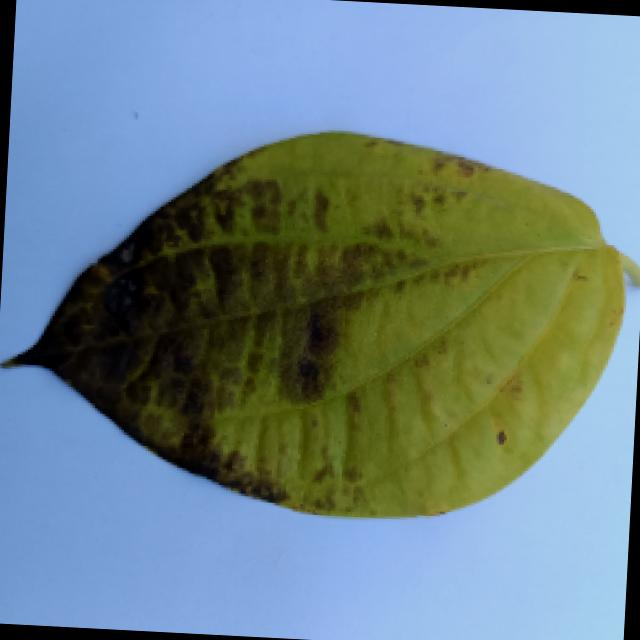slow-decline: (1, 109, 640, 551)
